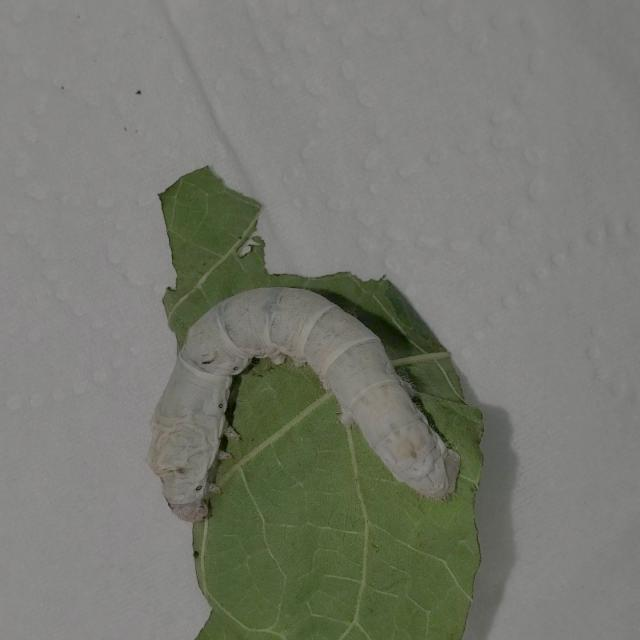Healthy: (138, 273, 466, 531)
